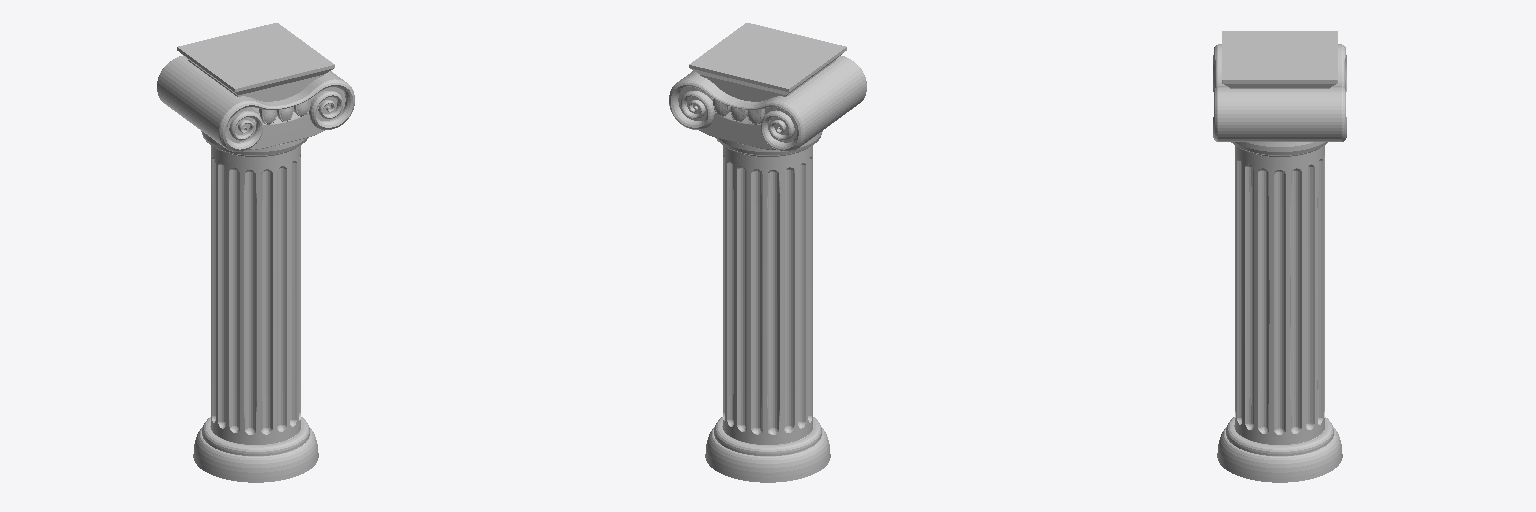
File: uploads_files_3405578_column_01.obj
3 renders of one model, left to right at view 1: azimuth 30°, elevation 25°; view 2: azimuth 150°, elevation 25°; view 3: azimuth 270°, elevation 25°, orthographic.
Parts seen in each view (by area): view 1: Capsule014; view 2: Capsule014; view 3: Capsule014.
Boxes of the visible parts, x1,y1,x2,y2 form: Capsule014: [157, 23, 354, 482]; Capsule014: [669, 23, 866, 482]; Capsule014: [1213, 31, 1346, 482].
Bounding box in the file's own units: 102 × 286 × 86.46.